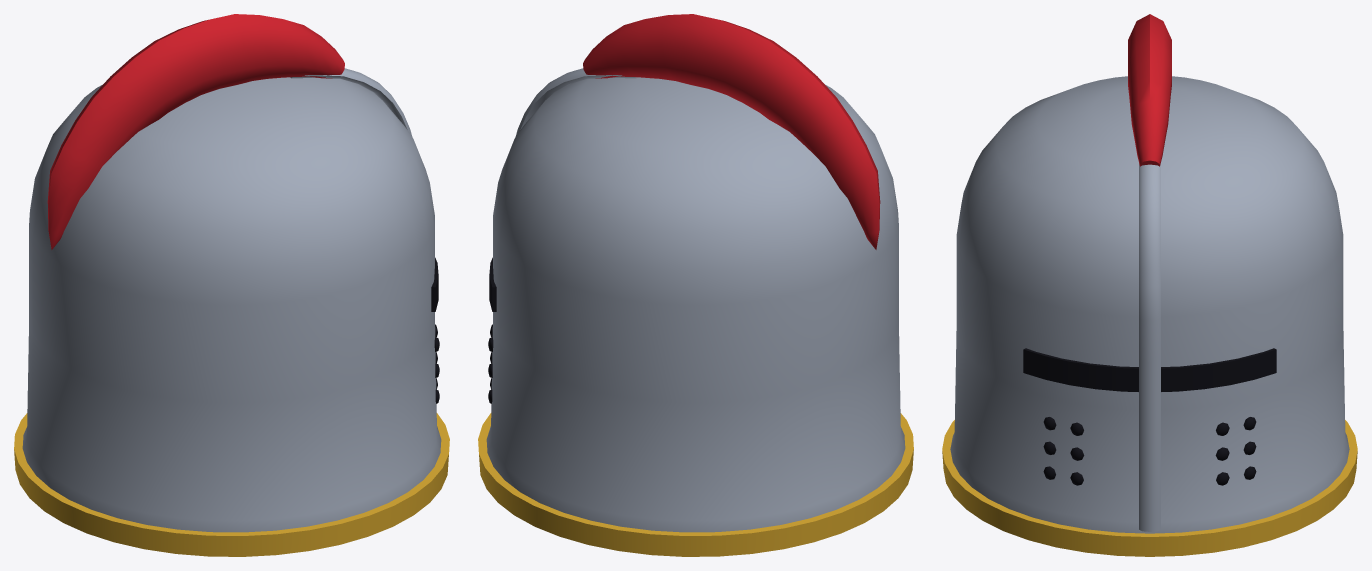
File: hat_knight.glb
3 views of the same model, side by side, from view 1: azimuth 30°, elevation 25°; view 2: azimuth 150°, elevation 25°; view 3: azimuth 270°, elevation 25° (orthographic). The views are drawn at different scales.
Visible parts, largest first — view 1: hat_knight; view 2: hat_knight; view 3: hat_knight.
Part boxes in pixels (x1=…): hat_knight: x1=14, y1=14, x2=449, y2=556; hat_knight: x1=478, y1=14, x2=913, y2=556; hat_knight: x1=942, y1=14, x2=1357, y2=556.
Size of the model in its own units: 0.608 by 0.6937 by 0.608.
